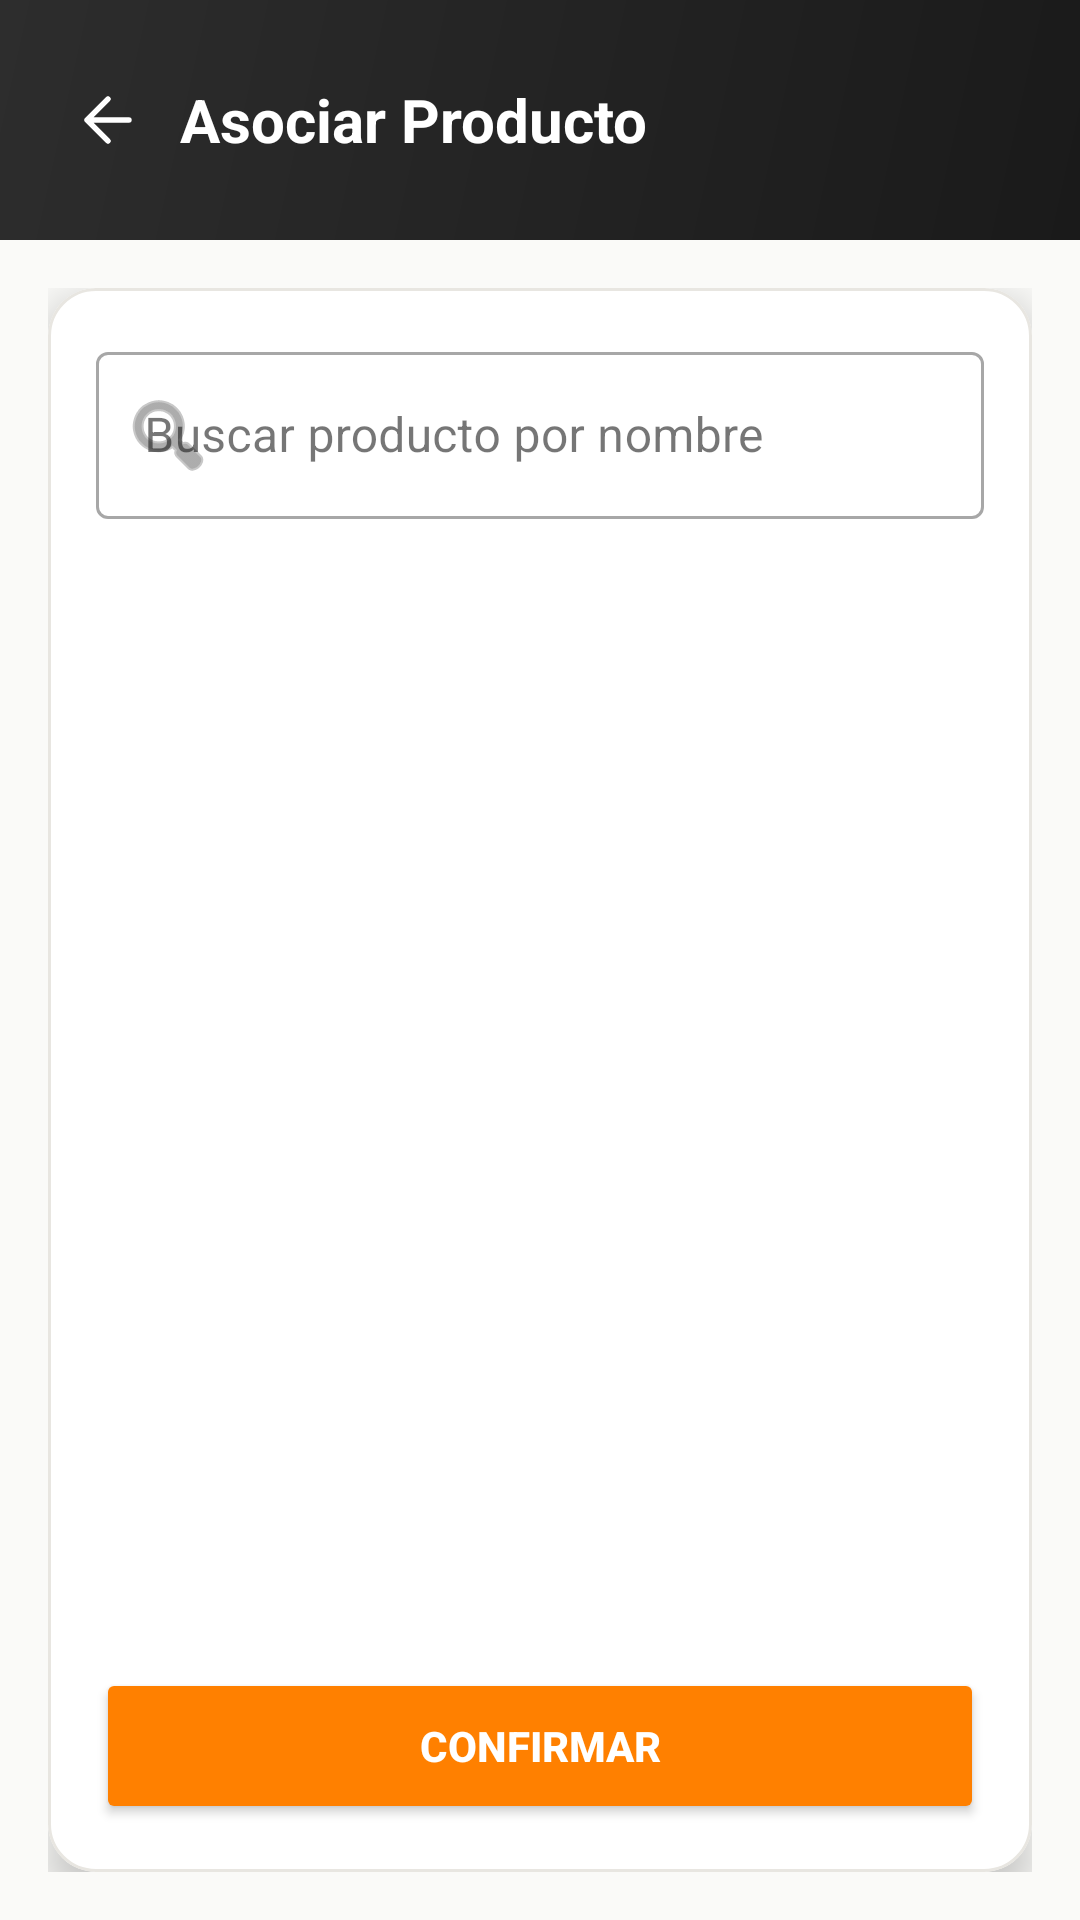

Icon click points for this 1080x1920 phone screenshot, format [x,y]:
Volver: [108,120]
